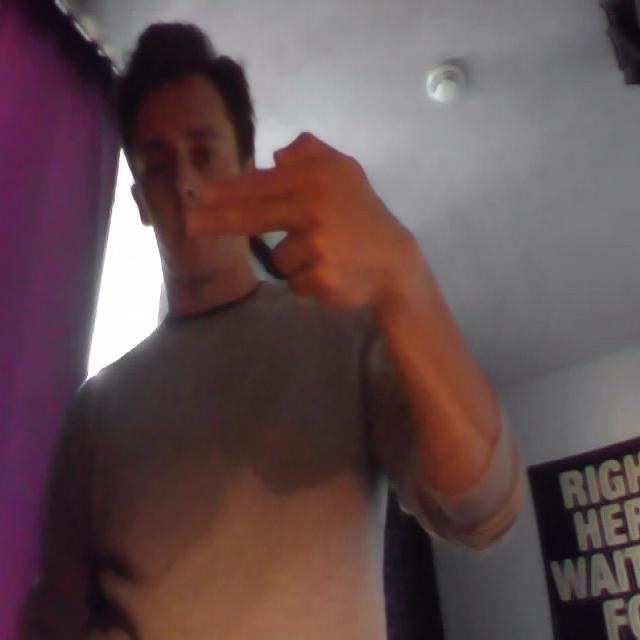left: (174, 124, 416, 318)
